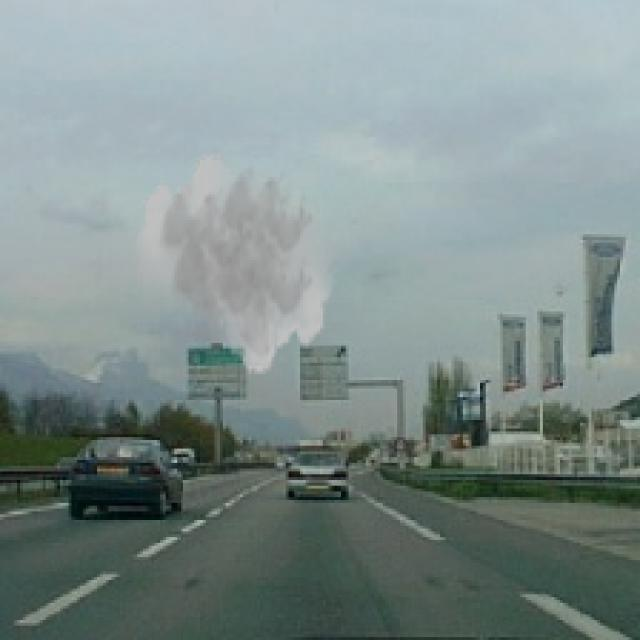smoke: (132, 152, 337, 377)
